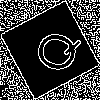Q: (25, 25, 82, 77)
